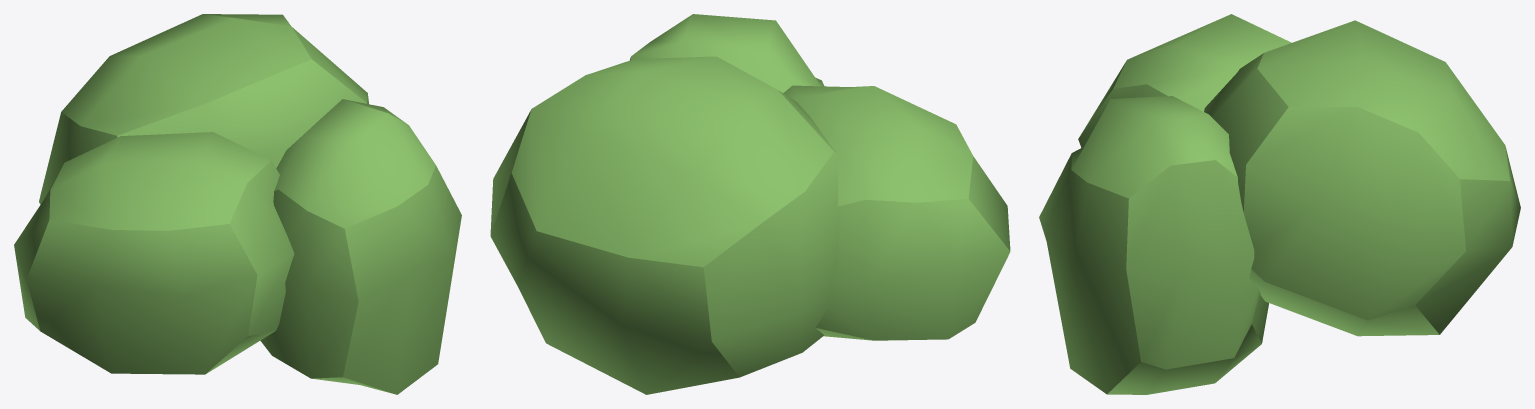
Rendered from 장애물_덤불.fbx.
The picture shows the model from 3 angles, left to right: view 1: azimuth 30°, elevation 25°; view 2: azimuth 150°, elevation 25°; view 3: azimuth 270°, elevation 25°; orthographic projection. The views are drawn at different scales.
Parts seen in each view (by area): view 1: pCube9, pCube8, pCube10; view 2: pCube10, pCube9, pCube8; view 3: pCube10, pCube8, pCube9.
Part boxes in pixels (x1=…): pCube9: x1=14, y1=132, x2=294, y2=374; pCube8: x1=260, y1=99, x2=461, y2=394; pCube10: x1=39, y1=14, x2=368, y2=204; pCube10: x1=490, y1=56, x2=839, y2=394; pCube9: x1=783, y1=85, x2=1010, y2=340; pCube8: x1=630, y1=14, x2=824, y2=92; pCube10: x1=1204, y1=20, x2=1520, y2=336; pCube8: x1=1039, y1=96, x2=1268, y2=394; pCube9: x1=1078, y1=14, x2=1291, y2=147.
Bounding box in the file's own units: 0.731 × 0.5054 × 0.7361.
